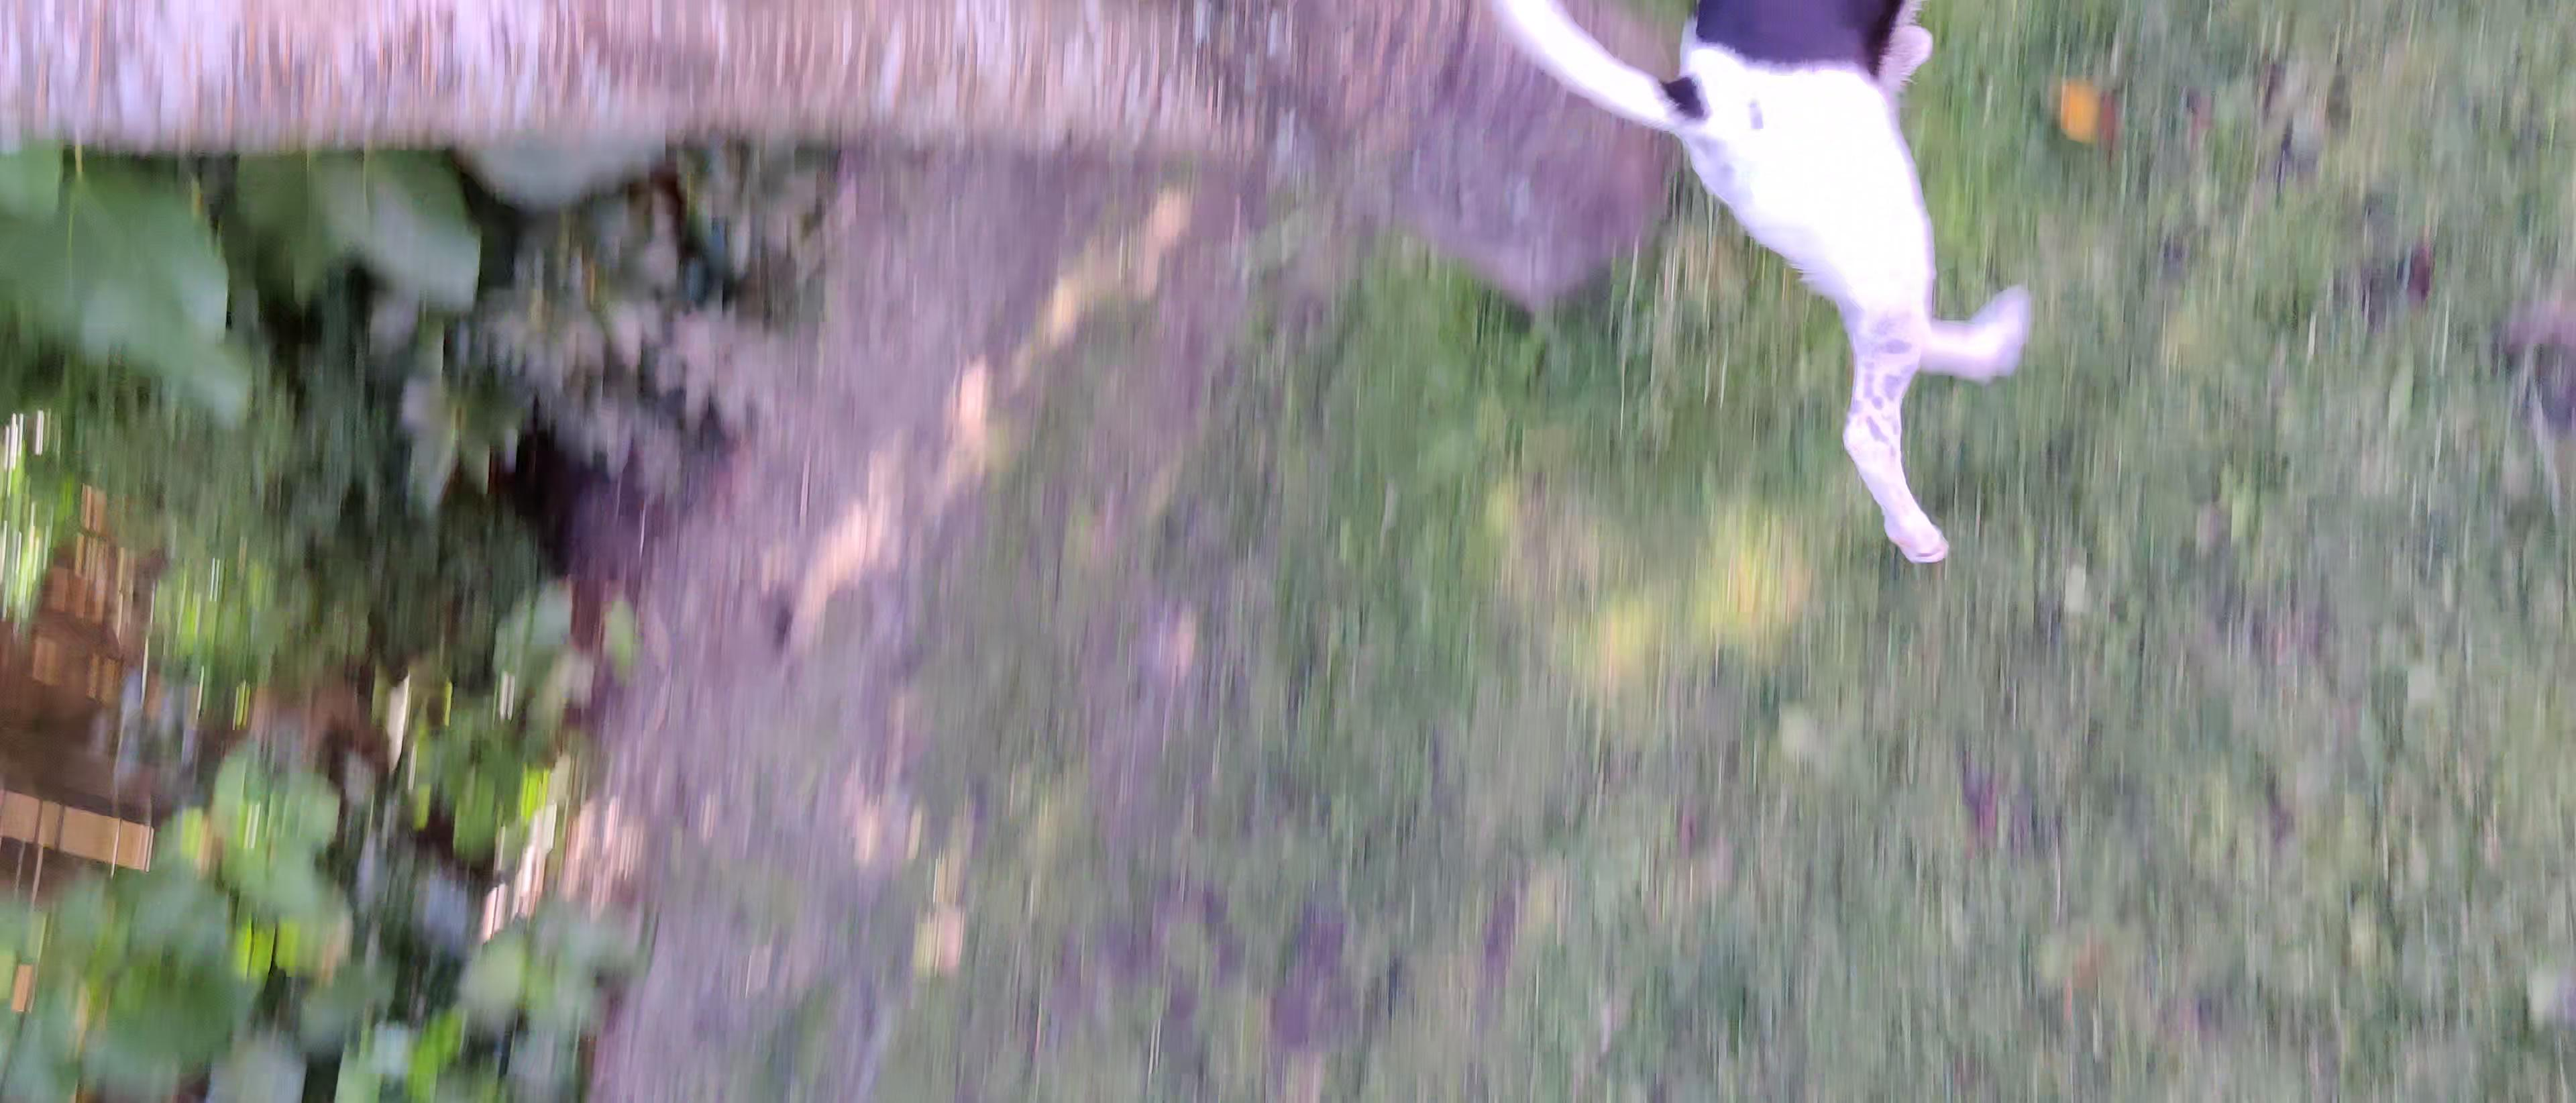Dog: (1467, 0, 2057, 572)
